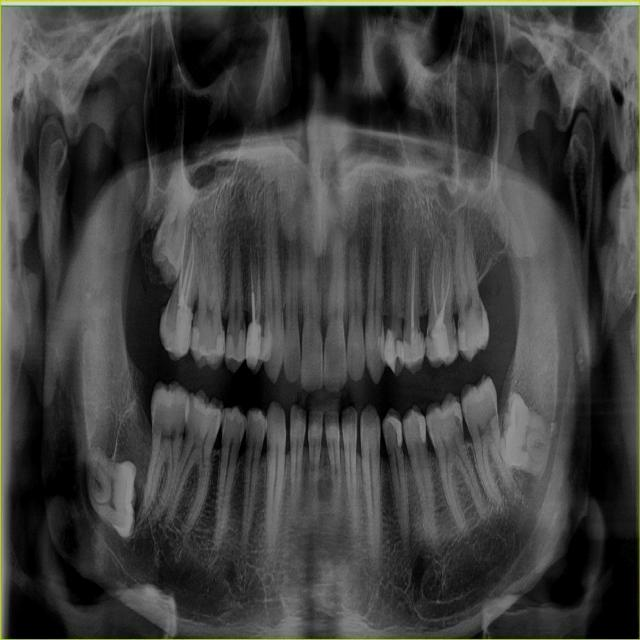Crown: (159, 301, 192, 359), (424, 319, 455, 367), (401, 328, 425, 372), (246, 320, 263, 370)
Filling: (191, 325, 224, 360), (224, 328, 246, 362), (438, 398, 463, 425), (385, 328, 397, 374), (387, 414, 403, 446), (418, 412, 427, 442), (395, 340, 405, 364)
Periapical lesion: (317, 477, 333, 502), (173, 504, 189, 528)
Root Canal Treatment: (435, 260, 451, 326), (181, 233, 192, 303), (184, 229, 194, 305), (179, 225, 187, 305), (255, 248, 261, 323), (439, 258, 445, 319), (432, 261, 438, 319), (250, 259, 255, 321), (411, 249, 414, 333), (413, 248, 416, 331)
impacted tooth: (500, 392, 564, 477), (85, 445, 136, 537), (153, 159, 189, 282)
